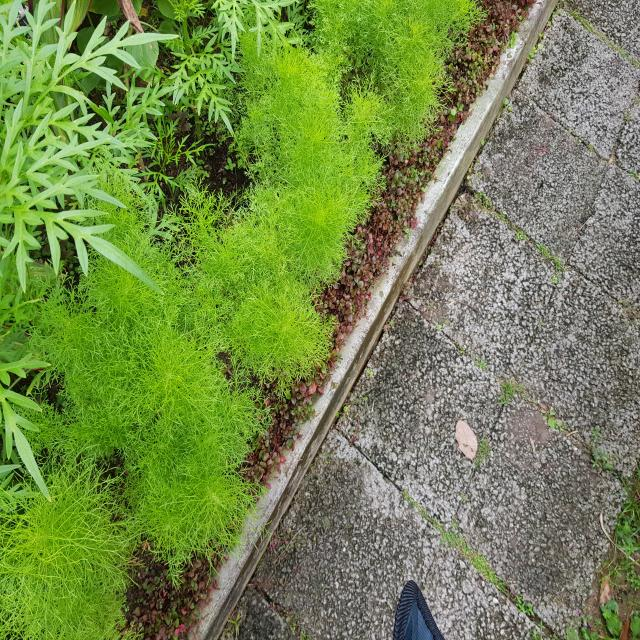Dill: (194, 68, 385, 398), (52, 258, 250, 548), (320, 4, 447, 126), (7, 504, 127, 633)
